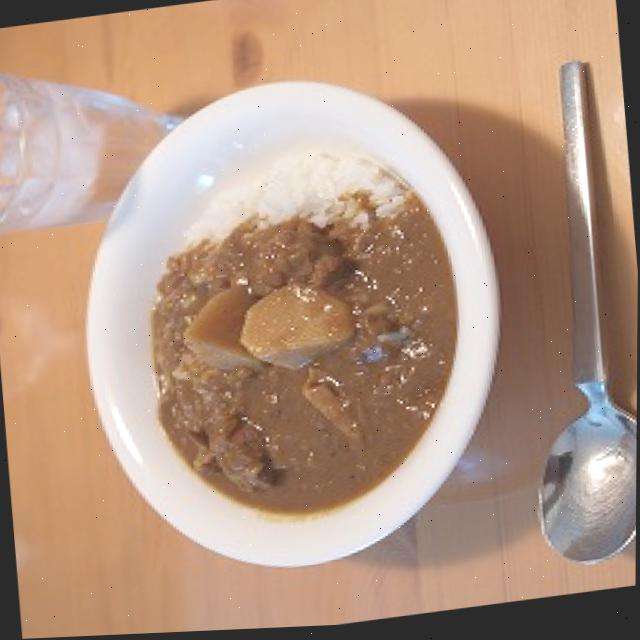牛肉菜式: (60, 59, 518, 599)
